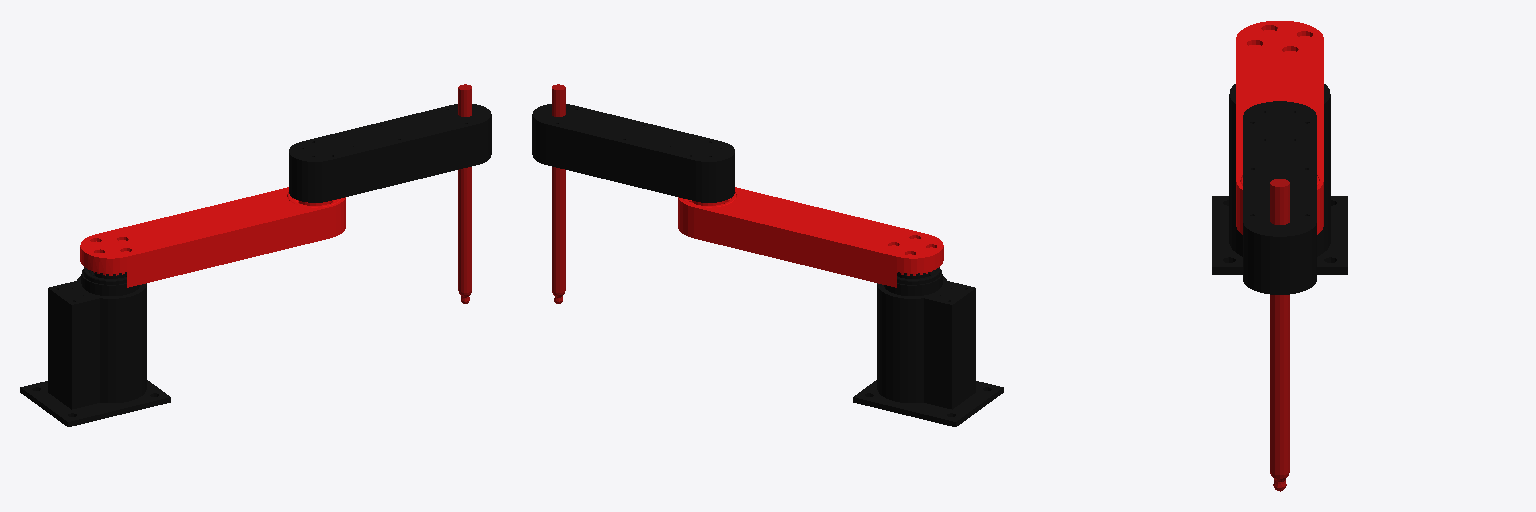
The robot description file, URDF, robot "sr_scara_hx":
<?xml version="1.0"?>
<robot name="sr_scara_hx">

<!--Base-Link -->
<link name="base_link">
 <visual>
  <origin xyz="0 0 0.097" rpy="0 0 0" />
   <geometry>
     <mesh filename="package://sr_scara_hx_description/meshes/base.stl" scale="0.001 0.001 0.001"/>  
   </geometry>
   <material name="black">
     <color rgba="0.1 0.1 0.1 1"/>
   </material>
 </visual>
 <collision>
  <origin xyz="0 0 0.097" rpy="0 0 0" />
   <geometry>
     <mesh filename="package://sr_scara_hx_description/meshes/base.stl" scale="0.001 0.001 0.001"/>  
   </geometry>
 </collision>  
</link>

<link name="link1">
 <visual>
  <origin xyz="0 0 0" rpy="0 0 0" />
   <geometry>
     <mesh filename="package://sr_scara_hx_description/meshes/link1.stl" scale="0.001 0.001 0.001"/>  
   </geometry>
   <material name="red">
     <color rgba="0.9 0.1 0.1 1"/>
   </material>
 </visual>
 <collision>
  <origin xyz="0 0 0" rpy="0 0 0" />
   <geometry>
     <mesh filename="package://sr_scara_hx_description/meshes/link1.stl" scale="0.001 0.001 0.001"/>  
   </geometry>
 </collision>
</link>

<link name="link2">
 <visual>
  <origin xyz="-0.198 0 0" rpy="0 0 0" />
   <geometry>
     <mesh filename="package://sr_scara_hx_description/meshes/link2.stl" scale="0.001 0.001 0.001"/>  
   </geometry>
   <material name="black">
     <color rgba="0.1 0.1 0.1 1"/>
   </material>
 </visual>
 <collision>
  <origin xyz="-0.198 0 0" rpy="0 0 0" />
   <geometry>
     <mesh filename="package://sr_scara_hx_description/meshes/link2.stl" scale="0.001 0.001 0.001"/>  
   </geometry>
  </collision>
</link>

<link name="probe">
 <visual>
  <origin xyz="-0.344 0 0" rpy="0 0 0" />
  <geometry>
     <mesh filename="package://sr_scara_hx_description/meshes/probe.stl" scale="0.001 0.001 0.001"/>  
  </geometry>
  <material name="red">
     <color rgba="0.7 0.1 0.1 1"/>
  </material>
 </visual>
 <collision>
  <origin xyz="-0.344 0 0" rpy="0 0 0" />
  <geometry>
     <mesh filename="package://sr_scara_hx_description/meshes/probe.stl" scale="0.001 0.001 0.001"/>  
  </geometry>
 </collision>
</link>

<joint name="joint1" type="revolute">
  <axis xyz="0 0 1" /> 
  <limit effort="3.0" velocity="0.01" lower="-2.617" upper="2.617"/>
  <origin xyz="0 0 0.097" rpy="0 0 0" />
  <parent link="base_link" />
  <child link="link1" />
</joint>

<joint name="joint2" type="revolute">
 <axis xyz="0 0 1" /> 
 <limit effort="3.0" velocity="0.01" lower="-2.617" upper="2.617"/>
 <origin xyz="0.198 0 0" rpy="0 0 0" />
 <parent link="link1" />
 <child link="link2" />
</joint>

<joint name="joint3" type="prismatic">
 <axis xyz="0 0 1" /> 
 <limit effort="3.0" velocity="0.01" lower="0" upper="0.1"/>
 <origin xyz="0.146 0 0" rpy="0 0 0" />
 <parent link="link2" />
 <child link="probe" />
</joint>

</robot>

--- What the picture shows (computed from the rendered views, not written in the file) ---
The picture shows the robot from 3 angles, left to right: view 1: azimuth 30°, elevation 25°; view 2: azimuth 150°, elevation 25°; view 3: azimuth 270°, elevation 25°; orthographic projection.
Robot: sr_scara_hx — 4 links, 3 joints (2 revolute, 1 prismatic); root link base_link; default pose: every joint at zero.
Visible links, largest first — view 1: base_link, link1, link2, probe; view 2: base_link, link1, link2, probe; view 3: link2, link1, base_link, probe.
Boxes of the visible links, box(x1,y1,x2,y2) form: base_link: box(20, 267, 170, 426); link1: box(80, 187, 345, 287); link2: box(289, 104, 491, 202); probe: box(458, 84, 471, 303); base_link: box(853, 267, 1003, 426); link1: box(678, 187, 943, 287); link2: box(532, 104, 734, 202); probe: box(552, 84, 565, 303); link2: box(1243, 101, 1316, 294); link1: box(1236, 21, 1323, 234); base_link: box(1212, 84, 1347, 274); probe: box(1270, 179, 1289, 491).
Bounding box of the posed robot: 0.431 × 0.08 × 0.2042 m (x, y, z).
4 mesh visuals loaded from 4 distinct referenced files (4 binary STL).